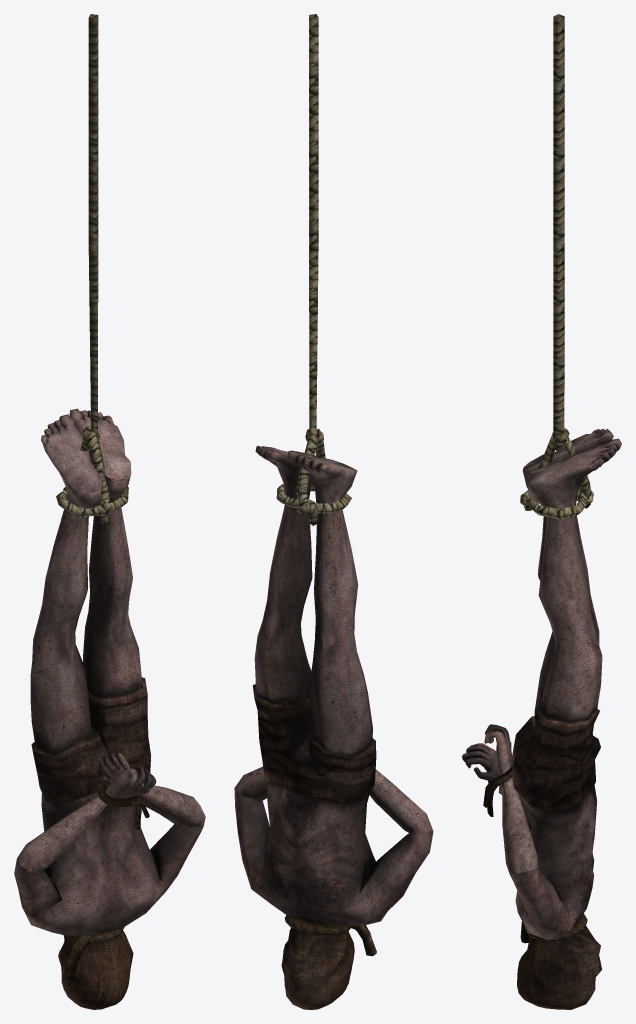
File: hanging_prisoner.dae
3 renders of one model, left to right at view 1: azimuth 30°, elevation 25°; view 2: azimuth 150°, elevation 25°; view 3: azimuth 270°, elevation 25°, orthographic.
Visible parts, largest first — view 1: hanging_prisoner, bagged_head, rope, foot_rope; view 2: hanging_prisoner, bagged_head, rope, foot_rope; view 3: hanging_prisoner, bagged_head, rope, foot_rope.
Part boxes in pixels (box(x1,y1,x2,y2)): hanging_prisoner: box(14, 408, 205, 936); bagged_head: box(58, 782, 149, 1009); rope: box(88, 14, 98, 437); foot_rope: box(56, 425, 128, 524); hanging_prisoner: box(234, 445, 433, 926); bagged_head: box(281, 915, 376, 1009); rope: box(309, 14, 318, 429); foot_rope: box(276, 427, 351, 525); hanging_prisoner: box(462, 428, 621, 939); bagged_head: box(483, 766, 601, 1009); rope: box(553, 14, 564, 441); foot_rope: box(520, 428, 593, 519).
Bounding box in the file's own units: 0.684 × 3.4 × 0.4966.
